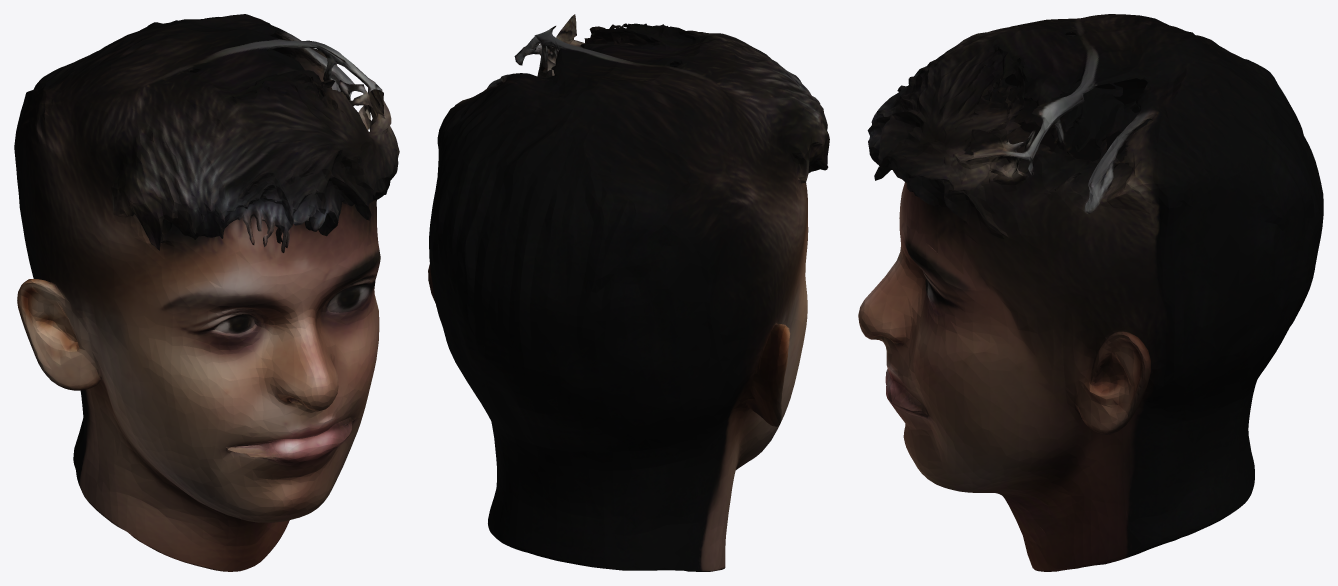
Rendered from utkarsh_head.glb.
3 renders of one model, left to right at view 1: azimuth 30°, elevation 25°; view 2: azimuth 150°, elevation 25°; view 3: azimuth 270°, elevation 25°, orthographic. The views are drawn at different scales.
Visible parts, largest first — view 1: geometry_0; view 2: geometry_0; view 3: geometry_0.
Part boxes in pixels (x1,y1,x2,y2): geometry_0: (14, 14, 399, 571); geometry_0: (428, 14, 829, 571); geometry_0: (858, 14, 1323, 571).
Size of the model in its own units: 0.4942 by 0.6944 by 0.5641.
1 material, 1 textured.
